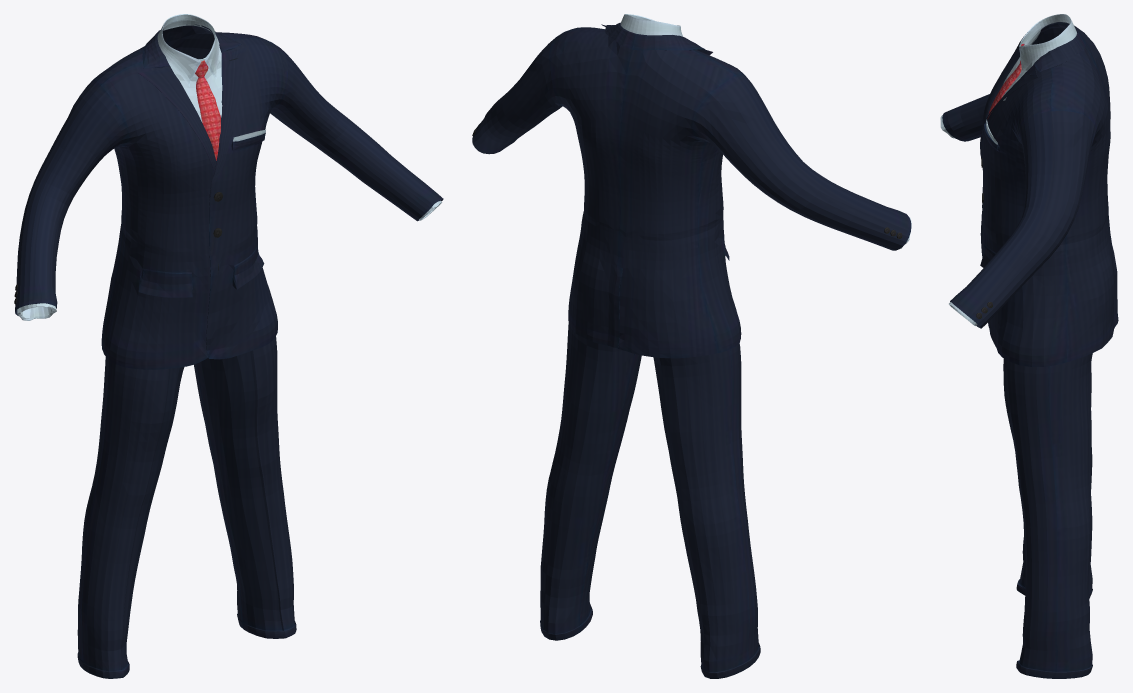
The model's file is mhw_toigo_male_suit_3.glb.
3 views of the same model, side by side, from view 1: azimuth 30°, elevation 25°; view 2: azimuth 150°, elevation 25°; view 3: azimuth 270°, elevation 25° (orthographic). The views are drawn at different scales.
Visible parts, largest first — view 1: mhw_toigo_male_suit_3; view 2: mhw_toigo_male_suit_3; view 3: mhw_toigo_male_suit_3.
Part boxes in pixels (bbox=[...]): mhw_toigo_male_suit_3: bbox=[14, 14, 443, 678]; mhw_toigo_male_suit_3: bbox=[472, 14, 911, 678]; mhw_toigo_male_suit_3: bbox=[940, 14, 1118, 678].
Bounding box in the file's own units: 1.13 × 1.58 × 0.4157.
1 material, 1 textured.
